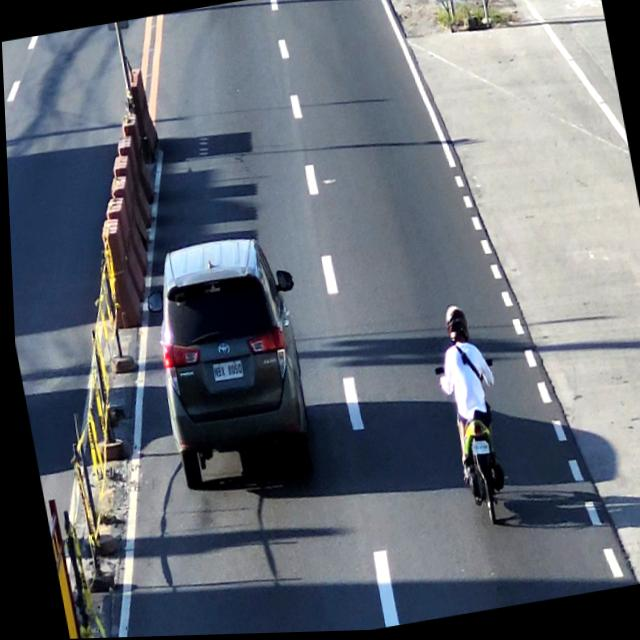Car: (139, 236, 317, 499)
License-Plate: (207, 359, 242, 382), (466, 442, 486, 460)
Motorcycle: (422, 296, 514, 539)
